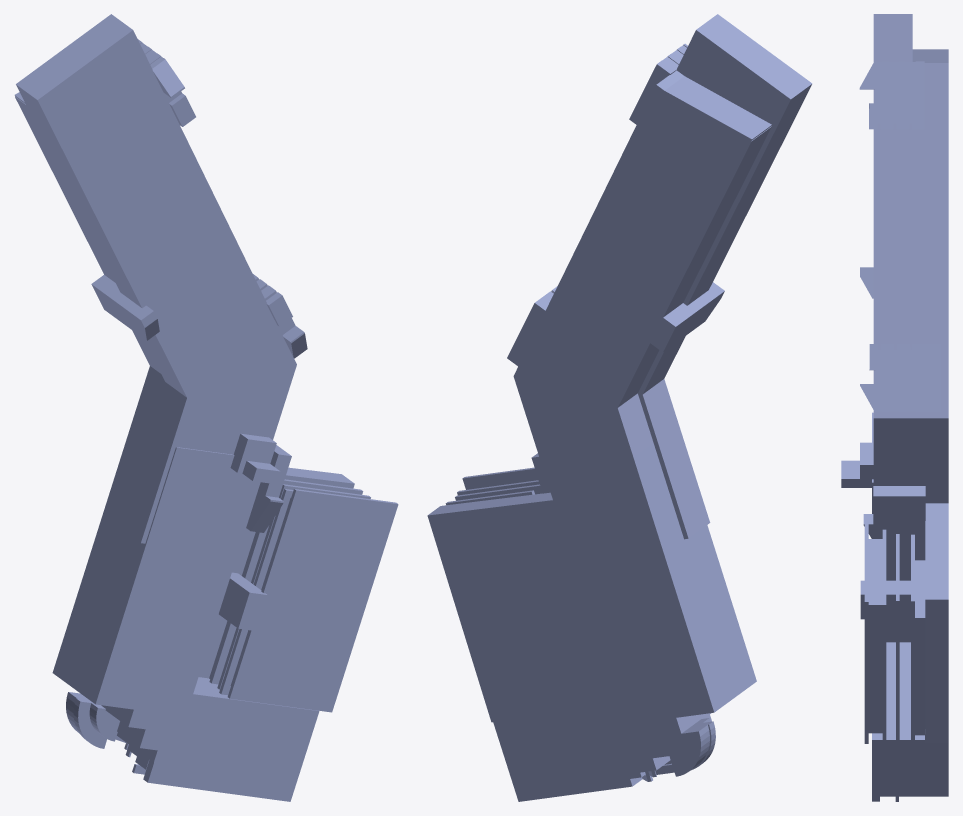
File: sde3.glb
3 renders of one model, left to right at view 1: azimuth 30°, elevation 25°; view 2: azimuth 150°, elevation 25°; view 3: azimuth 270°, elevation 25°, orthographic. The views are drawn at different scales.
Visible parts, largest first — view 1: SDE1 & 3; view 2: SDE1 & 3; view 3: SDE1 & 3.
Part boxes in pixels (<box>): SDE1 & 3: <box>14,14,398,801</box>; SDE1 & 3: <box>427,14,812,801</box>; SDE1 & 3: <box>841,14,948,801</box>.
Size of the model in its own units: 93.55 by 203 by 27.39.
